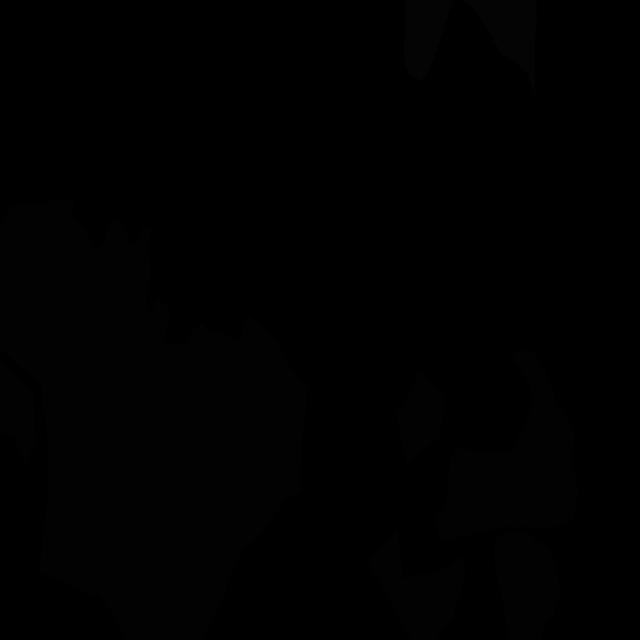cardboard: (0, 198, 308, 640), (436, 349, 579, 540), (366, 530, 466, 640), (494, 532, 561, 640), (396, 371, 446, 463), (0, 358, 36, 463)
soft_plastic: (404, 0, 537, 96)
